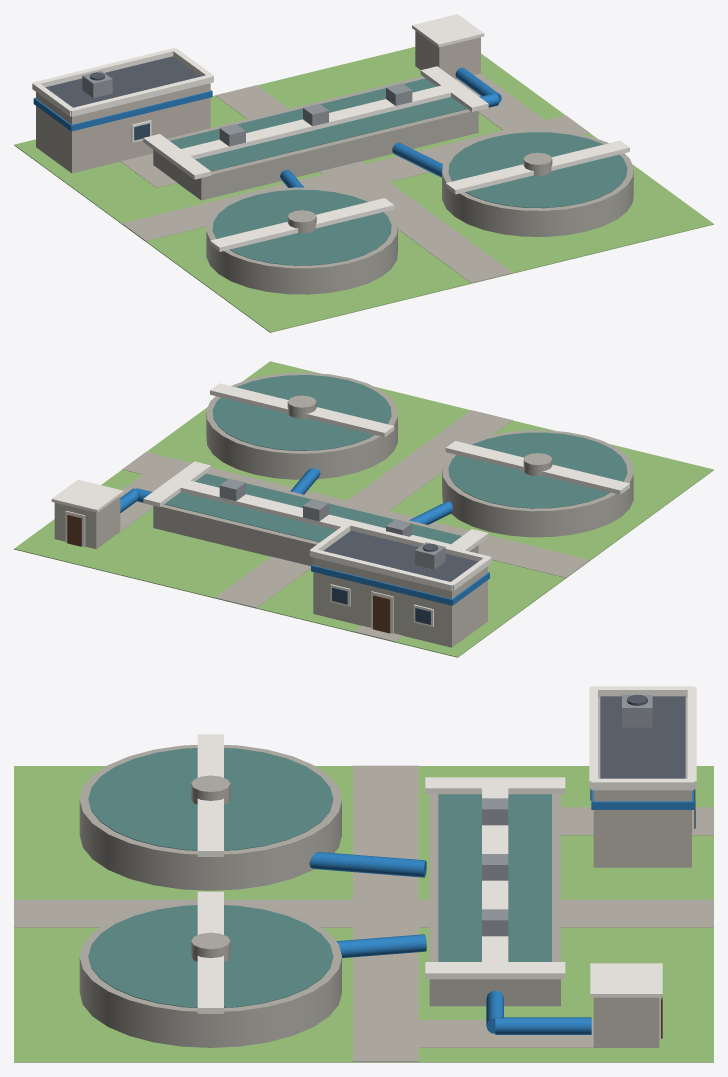
Rendered from treatment.glb.
3 views of the same model, one above another, from view 1: azimuth 30°, elevation 25°; view 2: azimuth 150°, elevation 25°; view 3: azimuth 270°, elevation 25° (orthographic). The views are drawn at different scales.
Parts seen in each view (by area): view 1: lawn, tank_water (×2), gravel_path (×4), settling_tank (×2), walkway (×5), aeration_basin, control_building, basin_water, roof, parapet (×2), pump_house, pump_roof (+4 smaller); view 2: lawn, tank_water (×2), settling_tank (×2), gravel_path (×3), walkway (×5), control_building, aeration_basin, basin_water, roof, parapet (×2), pump_house, pump_roof (+6 smaller); view 3: lawn, tank_water (×2), gravel_path (×4), settling_tank (×2), basin_water, walkway (×5), control_building, aeration_basin, roof, pipe (×4), parapet (×4), pump_house (+5 smaller).
Boxes of the visible parts, x1,y1,x2,y2 form: lawn: (14, 47, 713, 332); tank_water (×2): (212, 132, 627, 265); gravel_path (×4): (120, 73, 589, 283); settling_tank (×2): (206, 130, 633, 294); walkway (×5): (143, 66, 629, 251); aeration_basin: (153, 76, 478, 200); control_building: (36, 83, 210, 173); basin_water: (170, 78, 467, 171); roof: (45, 56, 199, 107); parapet (×2): (33, 48, 213, 116); pump_house: (415, 31, 480, 79); pump_roof: (412, 14, 484, 47); lawn: (14, 361, 713, 657); tank_water (×2): (212, 375, 627, 508); settling_tank (×2): (206, 372, 633, 537); gravel_path (×3): (118, 410, 589, 608); walkway (×5): (143, 383, 629, 551); control_building: (313, 557, 487, 647); aeration_basin: (153, 471, 478, 565); basin_water: (164, 473, 461, 543); roof: (323, 530, 477, 581); parapet (×2): (310, 522, 490, 591); pump_house: (54, 496, 120, 549); pump_roof: (51, 479, 123, 512); lawn: (14, 766, 713, 1062); tank_water (×2): (88, 748, 333, 1007); gravel_path (×4): (14, 765, 713, 1062); settling_tank (×2): (79, 745, 341, 1047); basin_water: (438, 794, 551, 961); walkway (×5): (197, 734, 565, 1013); control_building: (593, 697, 691, 867); aeration_basin: (429, 794, 560, 1006); roof: (600, 696, 685, 778); pipe (×4): (309, 852, 591, 1034); parapet (×4): (589, 686, 696, 790); pump_house: (593, 997, 659, 1047).
Bounding box in the file's own units: 32 × 5.29 × 32.
